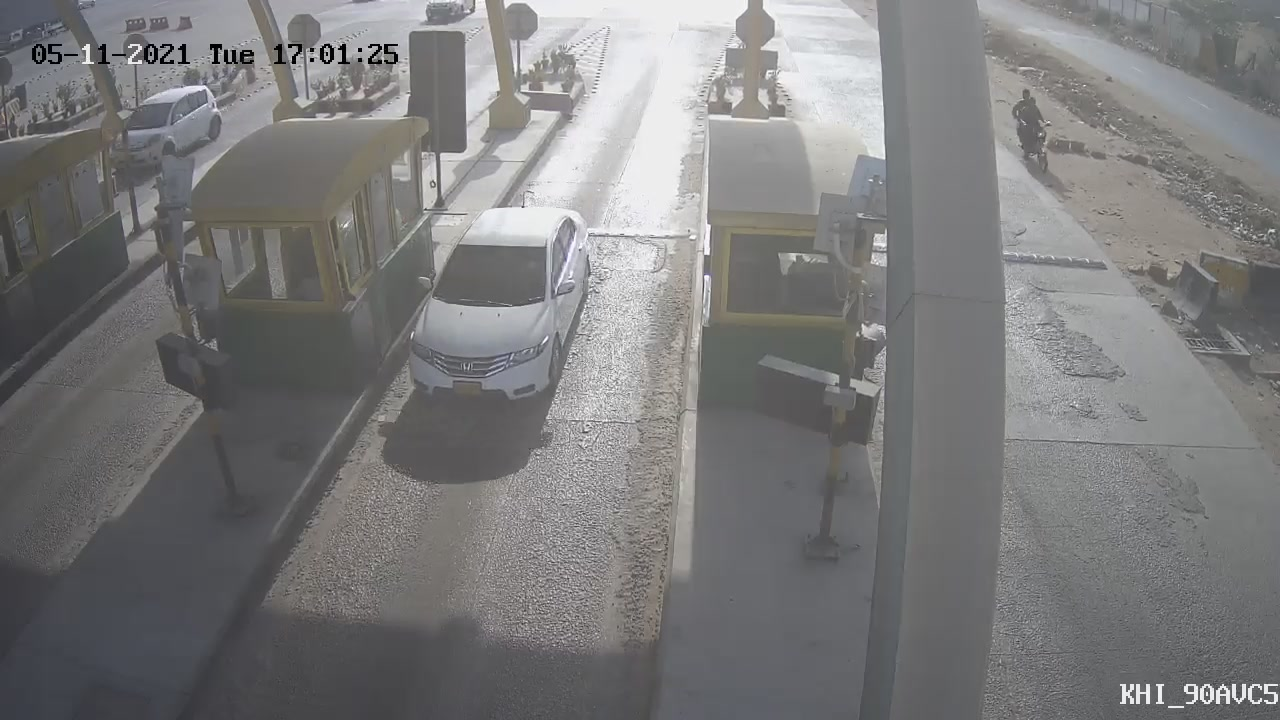F1: (379, 188, 612, 426)
